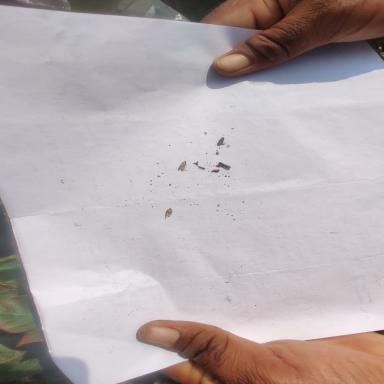pbw: (177, 161, 187, 172), (164, 208, 173, 220)
